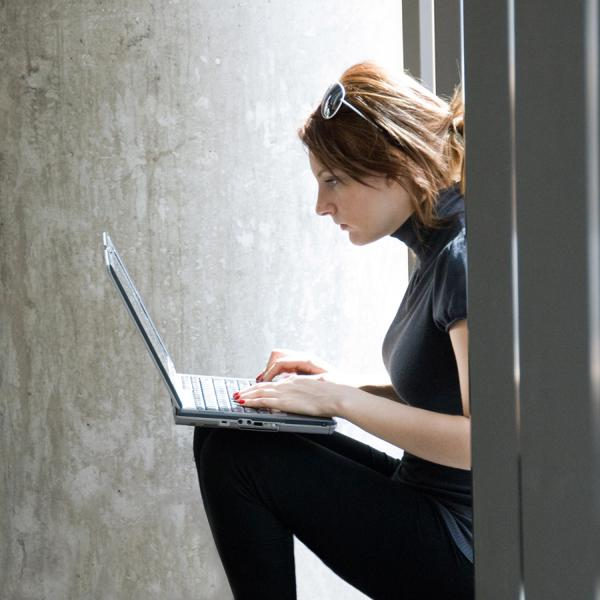person: (195, 63, 478, 600)
